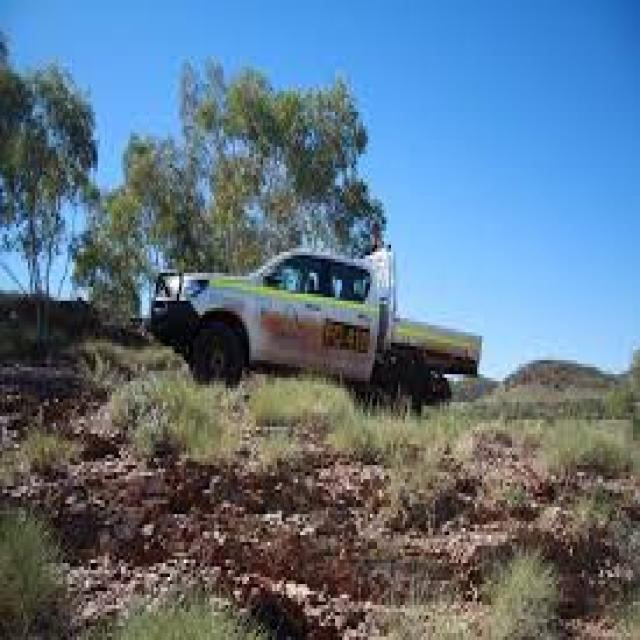light_vehicle: (126, 199, 514, 472)
